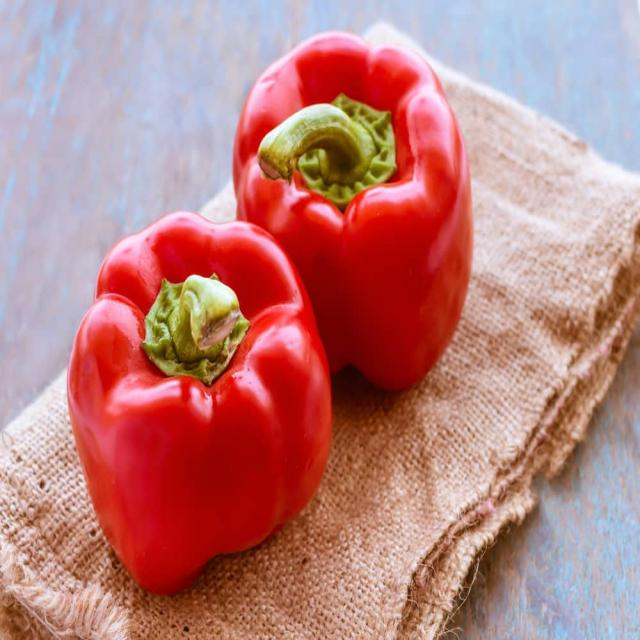bell_pepper: (64, 211, 338, 596), (232, 30, 474, 399)
